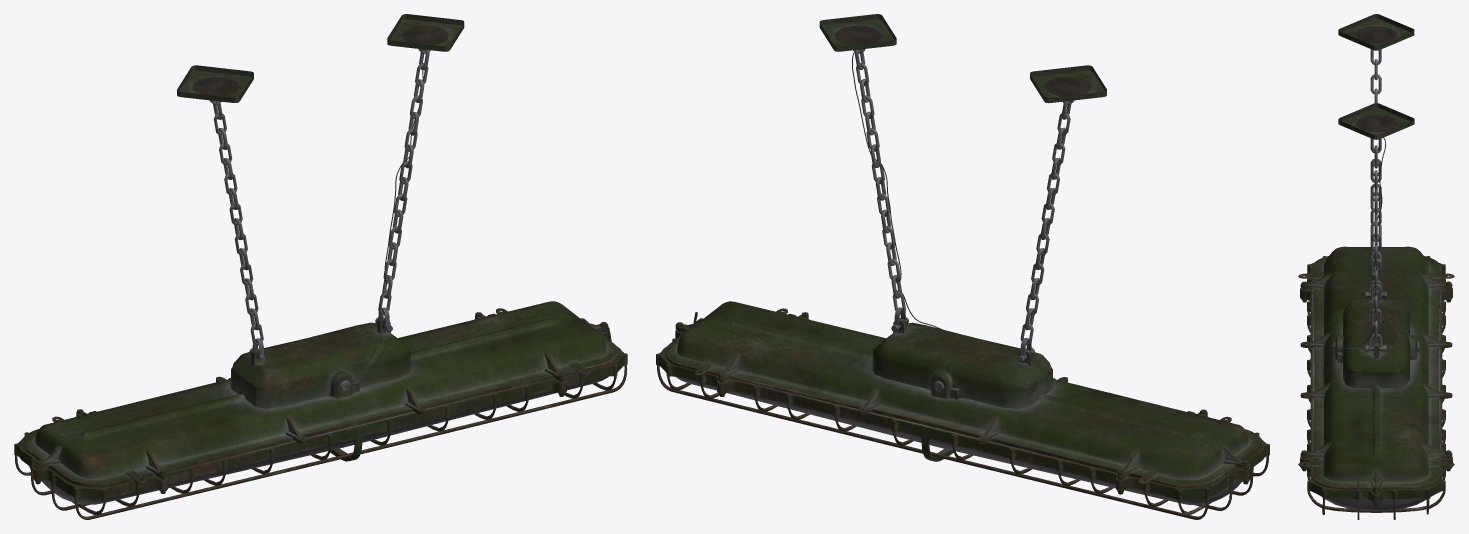
Rendered from caged_hanging_light.glb.
The picture shows the model from 3 angles, left to right: view 1: azimuth 30°, elevation 25°; view 2: azimuth 150°, elevation 25°; view 3: azimuth 270°, elevation 25°; orthographic projection. The views are drawn at different scales.
Visible parts, largest first — view 1: caged_hanging_light; view 2: caged_hanging_light; view 3: caged_hanging_light.
Boxes of the visible parts, bbox=[...] form: caged_hanging_light: bbox=[14, 14, 627, 519]; caged_hanging_light: bbox=[656, 14, 1269, 519]; caged_hanging_light: bbox=[1298, 14, 1454, 519].
Bounding box in the file's own units: 1.16 × 0.7501 × 0.3149.
1 material, 1 textured.
